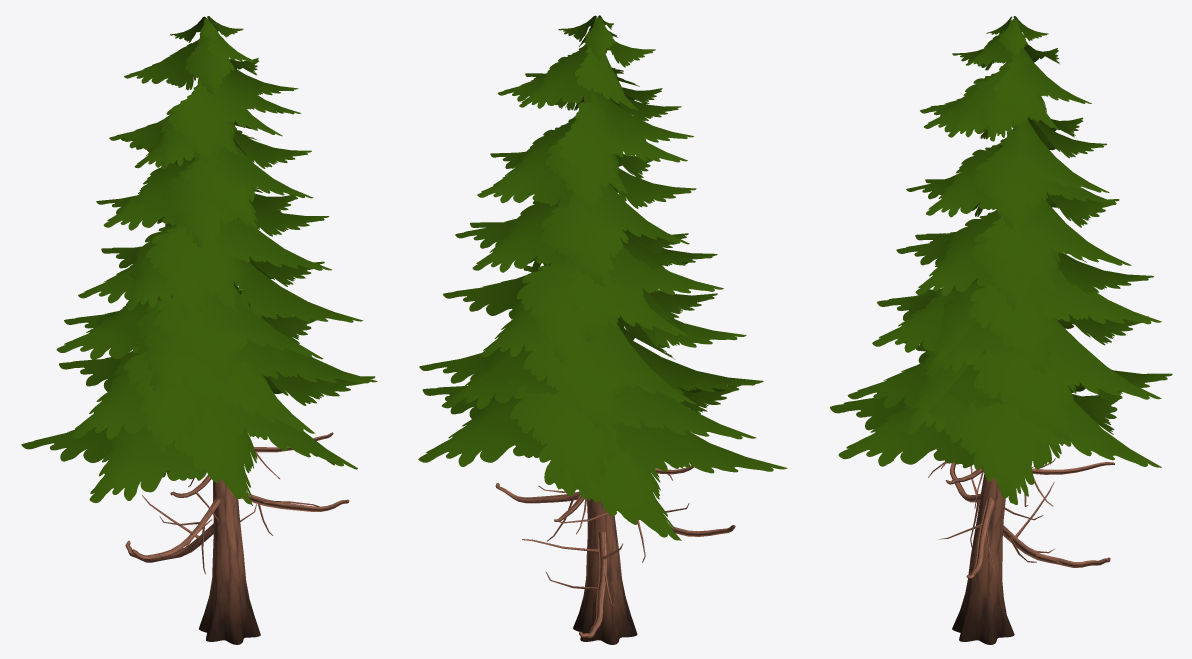
Rendered from Pine_4.gltf.
The picture shows the model from 3 angles, left to right: view 1: azimuth 30°, elevation 25°; view 2: azimuth 150°, elevation 25°; view 3: azimuth 270°, elevation 25°; orthographic projection. The views are drawn at different scales.
Parts seen in each view (by area): view 1: Pine_4; view 2: Pine_4; view 3: Pine_4.
Part boxes in pixels (left/top/right/bottom): Pine_4: left=21, top=16, right=377, bottom=644; Pine_4: left=418, top=15, right=787, bottom=644; Pine_4: left=830, top=16, right=1172, bottom=644.
Bounding box in the file's own units: 5.8 × 10.24 × 5.37.
Materials: 2 (2 with a texture image).
